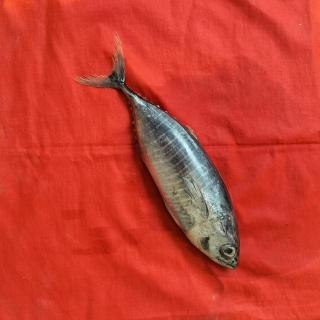Ikan: (66, 25, 250, 287)
